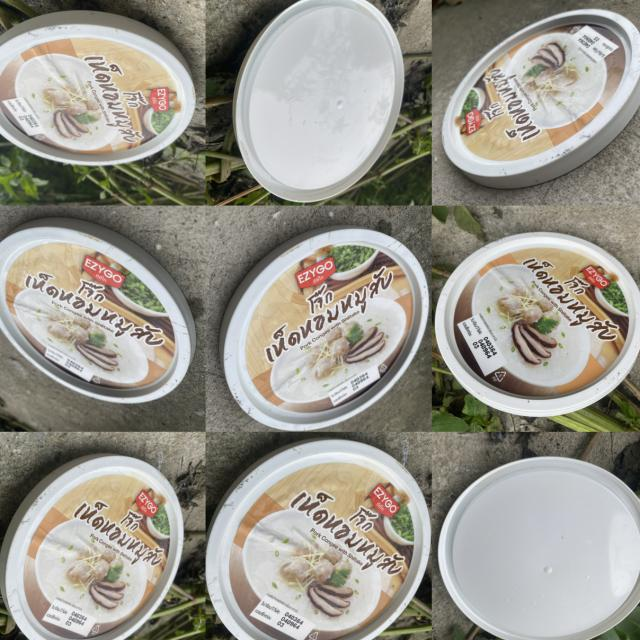plastik: (206, 439, 430, 640), (221, 226, 429, 430), (435, 233, 640, 417), (438, 457, 640, 640), (0, 219, 195, 404), (442, 10, 640, 189), (233, 0, 404, 202), (0, 455, 183, 640), (0, 10, 195, 165)
